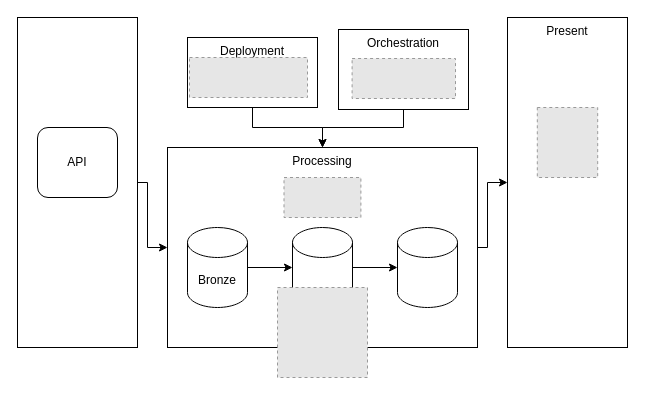
The diagram is 645 pixels wide and 395 high, and some of its shapes have lost their labels. Grey dashed boxes stand in for pictures. Here are the shapes that lost their labels. From the top down, the box of each, then its label:
(16, 16, 138, 348): Source
(292, 226, 352, 308): Silver
(396, 226, 458, 308): Gold
